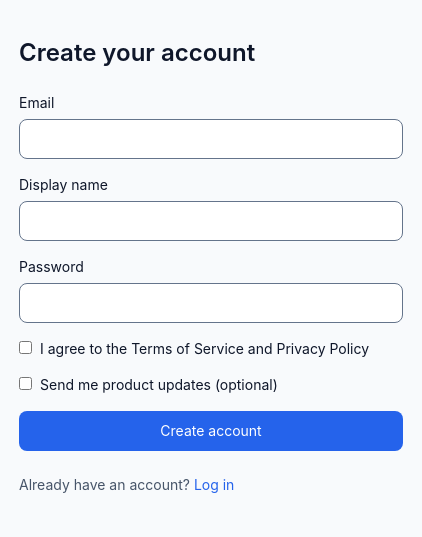
Test: RegisterPage › shows the server error message on a duplicate-email 409
This screenshot has width=422, height=537.
Type "dup@test.local" into the field labelled "Email".
click(211, 139); type("dup@test.local")  # box [19,119,403,159]
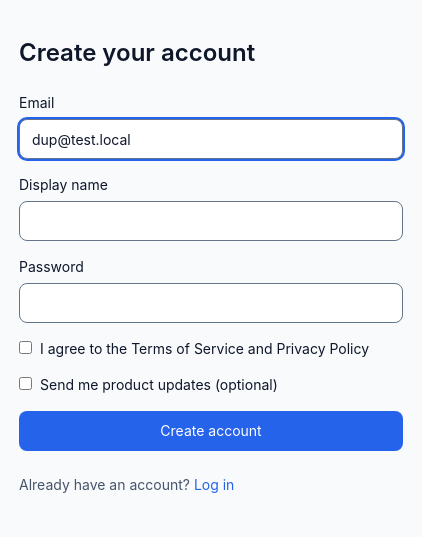
Type "Dup User" into the field labelled "Display name".
click(211, 221); type("Dup User")  # box [19,201,403,241]
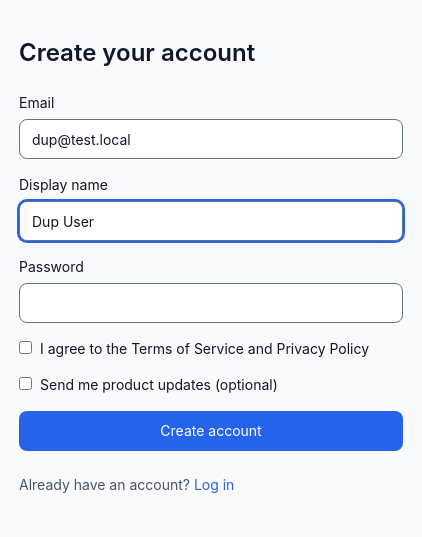
Type "correct horse battery staple" into the password field labelled "Password".
click(211, 303); type("correct horse battery staple")  # box [19,283,403,323]
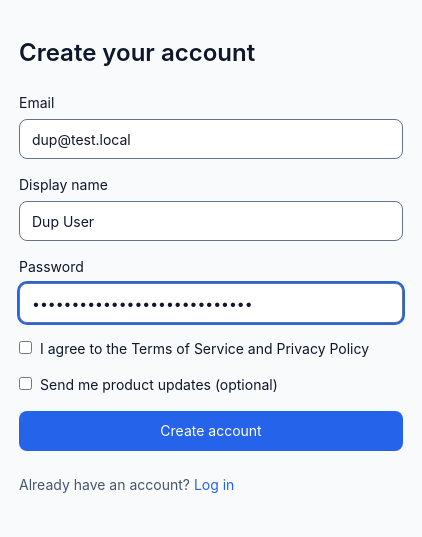
Click the text "I agree to the Terms of Service and Privacy Policy".
click(211, 349)  # box [19,339,403,359]
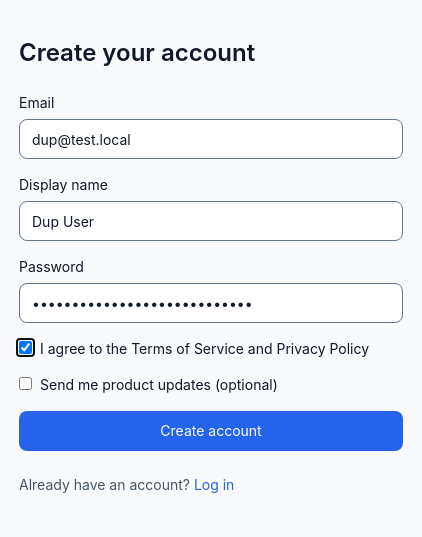
Click the button "Create account".
click(211, 431)  # box [19,411,403,451]
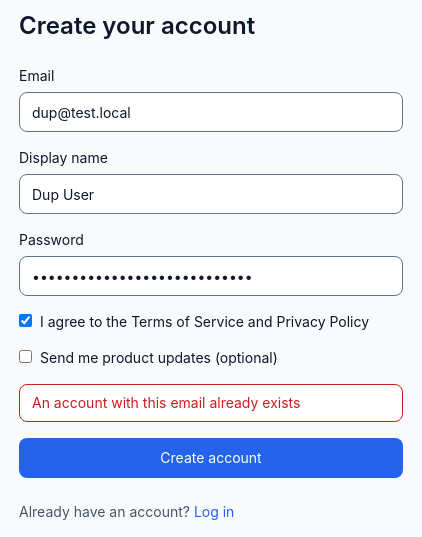
Check: the message reads "An account with this email already exists", box [32,394,300,411]
